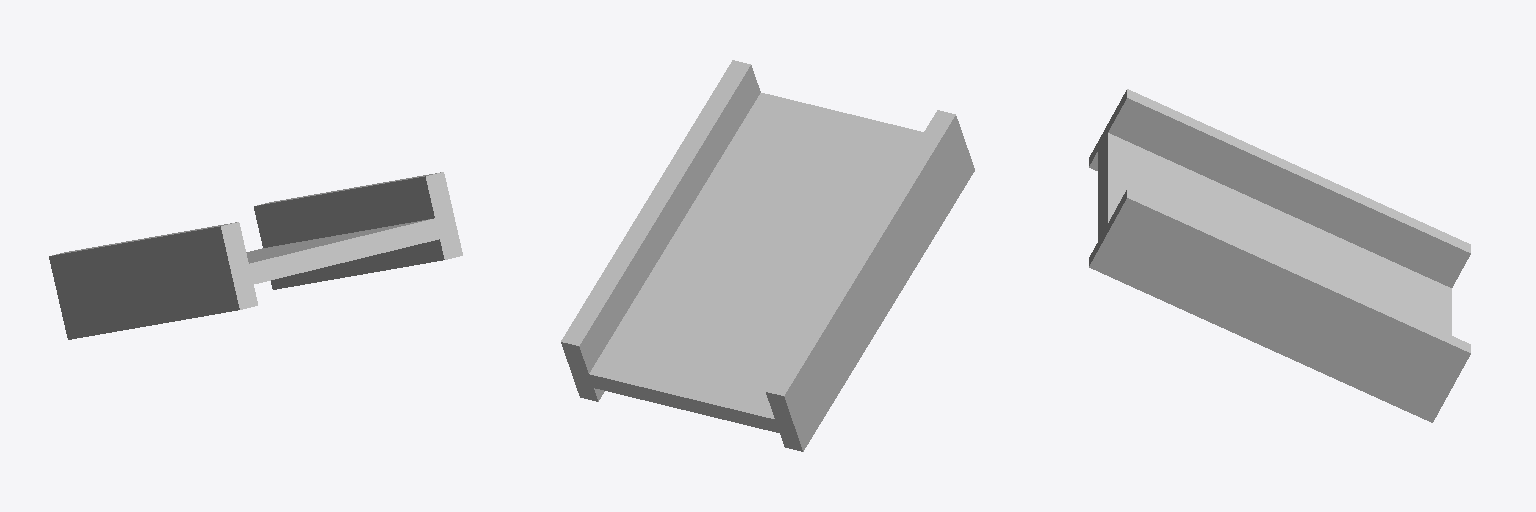
Rendered from sluice_box_top.obj.
3 renders of one model, left to right at view 1: azimuth 30°, elevation 25°; view 2: azimuth 150°, elevation 25°; view 3: azimuth 270°, elevation 25°, orthographic.
Visible parts, largest first — view 1: rail, ramp; view 2: ramp, rail; view 3: rail, ramp.
Part boxes in pixels (x1,y1,x2,y2): rail: (49, 172, 462, 339); ramp: (246, 218, 439, 283); ramp: (589, 93, 923, 432); rail: (561, 60, 974, 451); rail: (1089, 89, 1470, 422); ramp: (1098, 133, 1451, 335).
Bounding box in the file's own units: 0.75 × 0.7236 × 1.11.